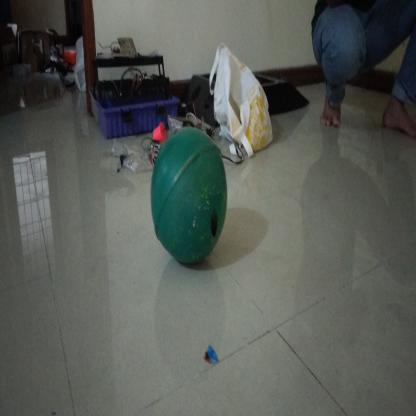green_buoy: (149, 124, 230, 273)
